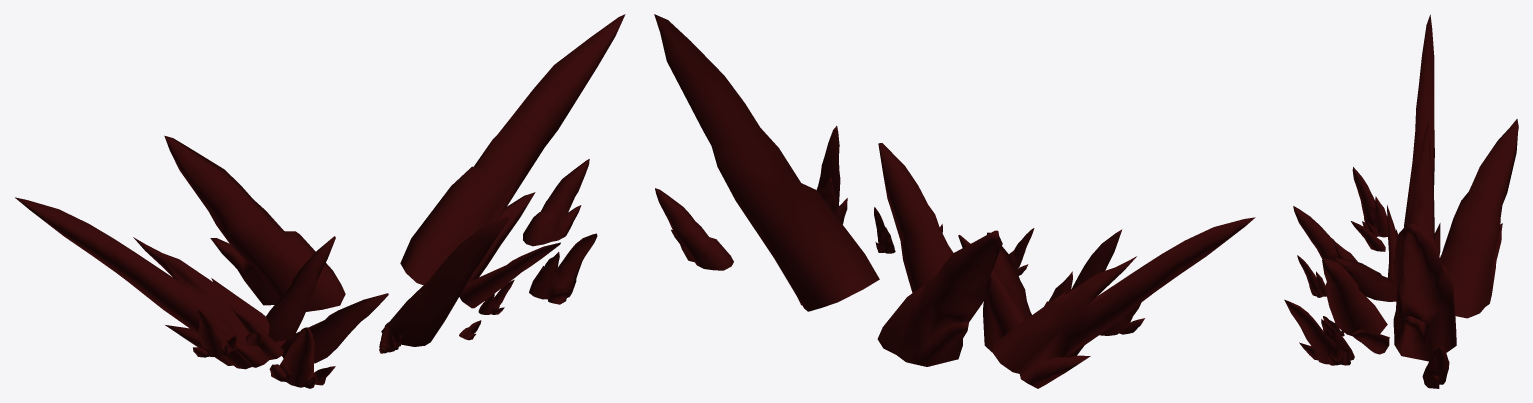
Rendered from eft_model_stone1.FBX.
3 renders of one model, left to right at view 1: azimuth 30°, elevation 25°; view 2: azimuth 150°, elevation 25°; view 3: azimuth 270°, elevation 25°, orthographic. The views are drawn at different scales.
Parts seen in each view (by area): view 1: eft_model_stone1; view 2: eft_model_stone1; view 3: eft_model_stone1.
Boxes of the visible parts, x1,y1,x2,y2 form: eft_model_stone1: (15, 14, 625, 388); eft_model_stone1: (654, 14, 1255, 388); eft_model_stone1: (1284, 14, 1518, 388).
Size of the model in its own units: 1237 by 517 by 493.
